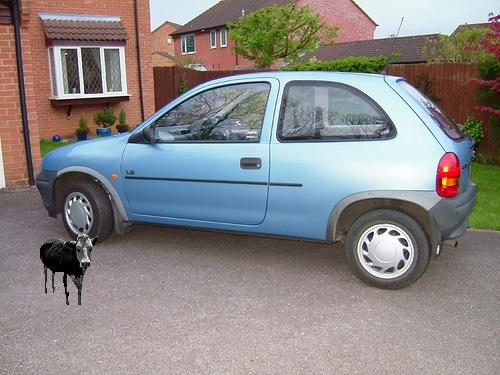tampered: (41, 235, 98, 305)
